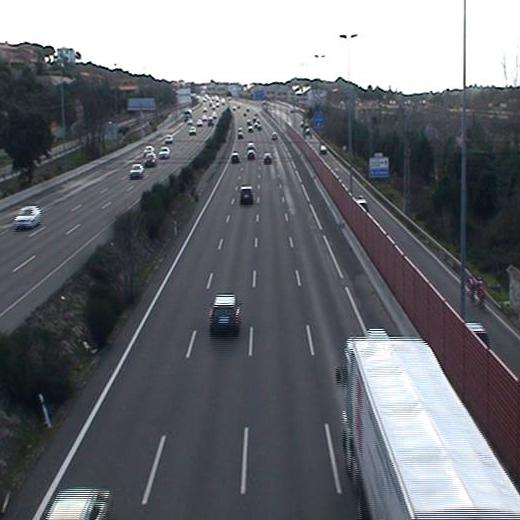car: (210, 295, 239, 330), (239, 187, 255, 203), (262, 152, 274, 165), (231, 152, 240, 165)
truck: (345, 328, 520, 520)
